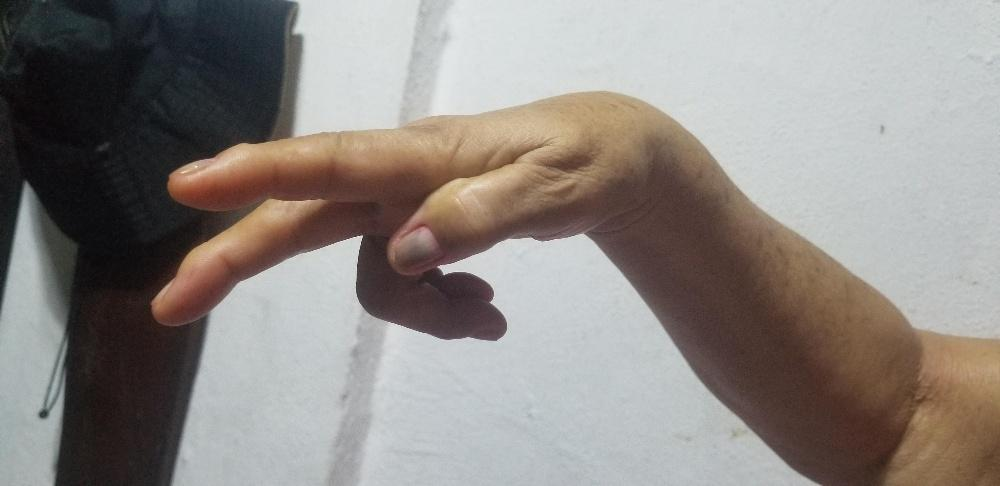p: (146, 87, 655, 338)
